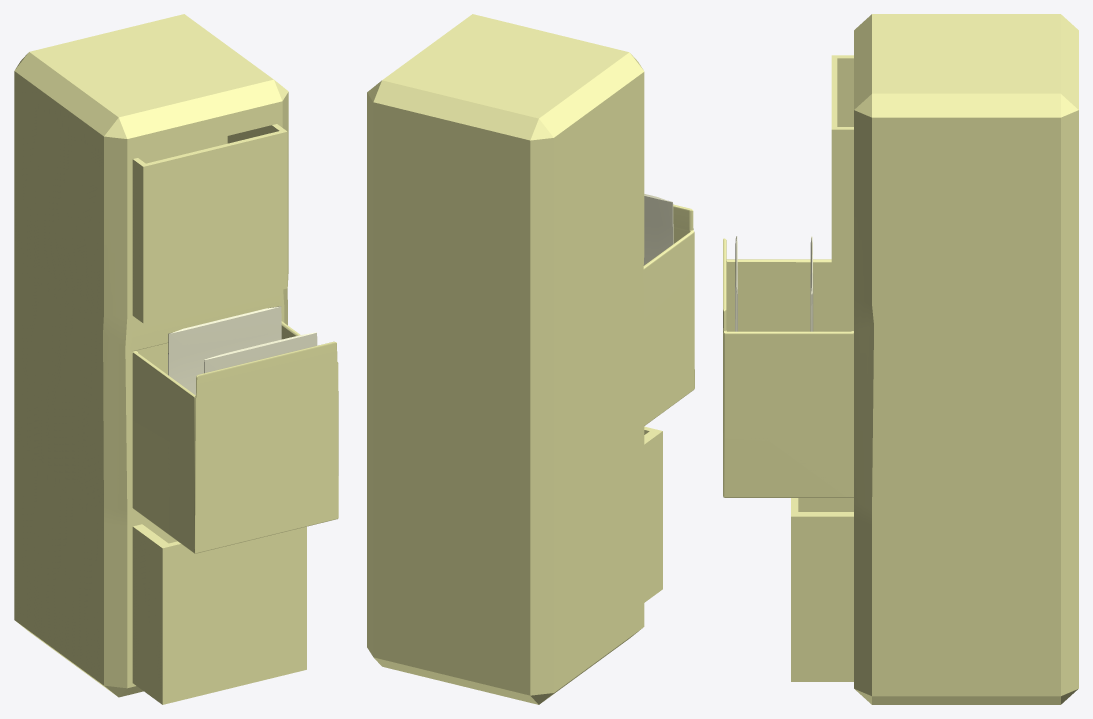
The model's file is S_FileCabinet.fbx.
The picture shows the model from 3 angles, left to right: view 1: azimuth 30°, elevation 25°; view 2: azimuth 150°, elevation 25°; view 3: azimuth 270°, elevation 25°; orthographic projection. The views are drawn at different scales.
Parts seen in each view (by area): view 1: pCube1, pCube2; view 2: pCube1, pCube2; view 3: pCube1, pCube2.
Boxes of the visible parts, left/top/right/bottom form: pCube1: left=14, top=14, right=338, bottom=704; pCube2: left=168, top=306, right=317, bottom=395; pCube1: left=367, top=14, right=694, bottom=704; pCube2: left=643, top=194, right=673, bottom=265; pCube1: left=723, top=14, right=1078, bottom=704; pCube2: left=735, top=236, right=813, bottom=331.
Size of the model in its own units: 1 by 3 by 1.58.
